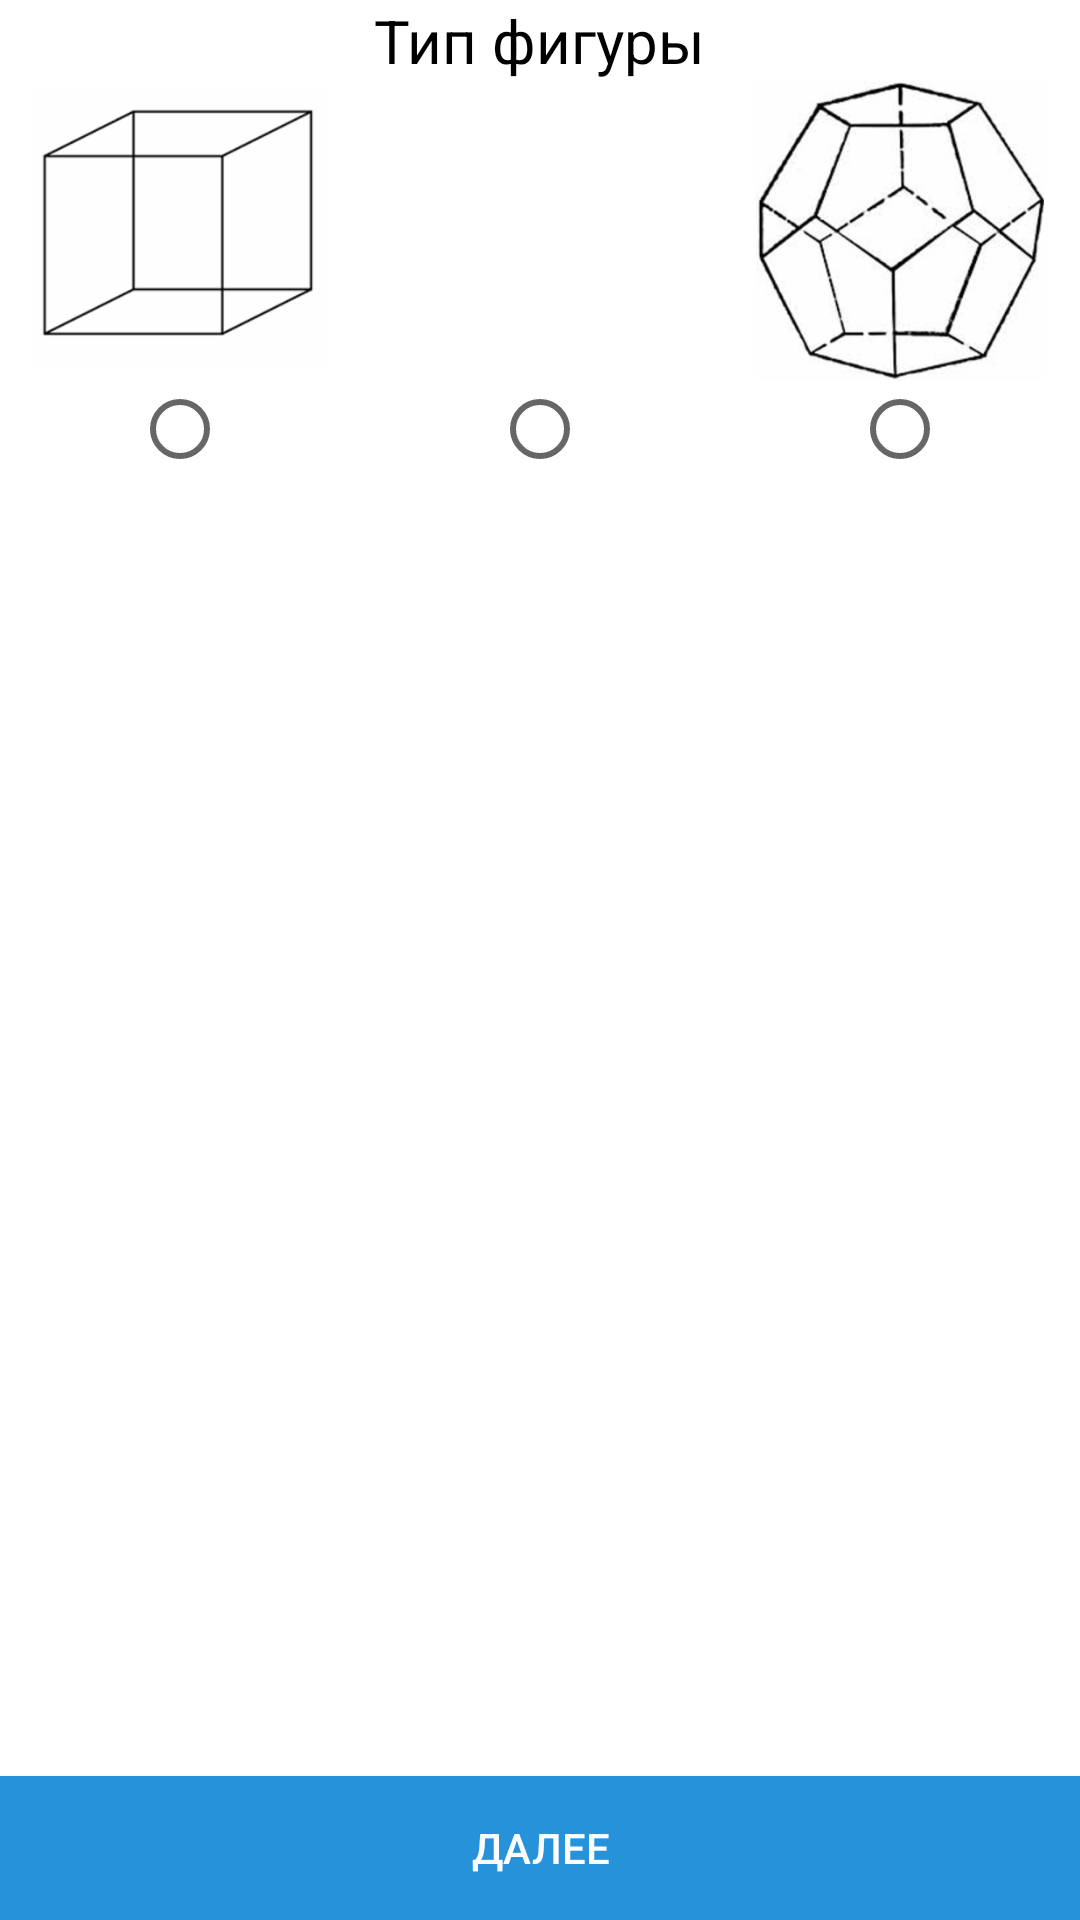

Icons on this 1080x1920 Android screen, each with the point to tap as point (x, y):
cube: point (178, 223)
dode: point (901, 231)
